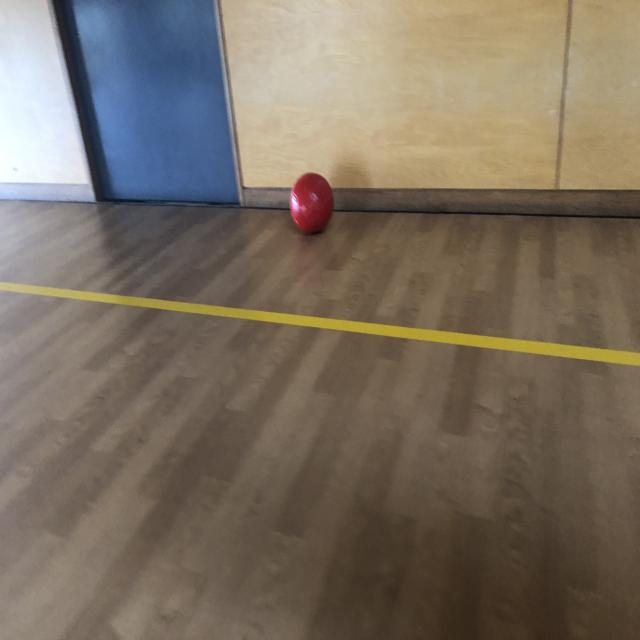red_ball: (290, 170, 334, 234)
